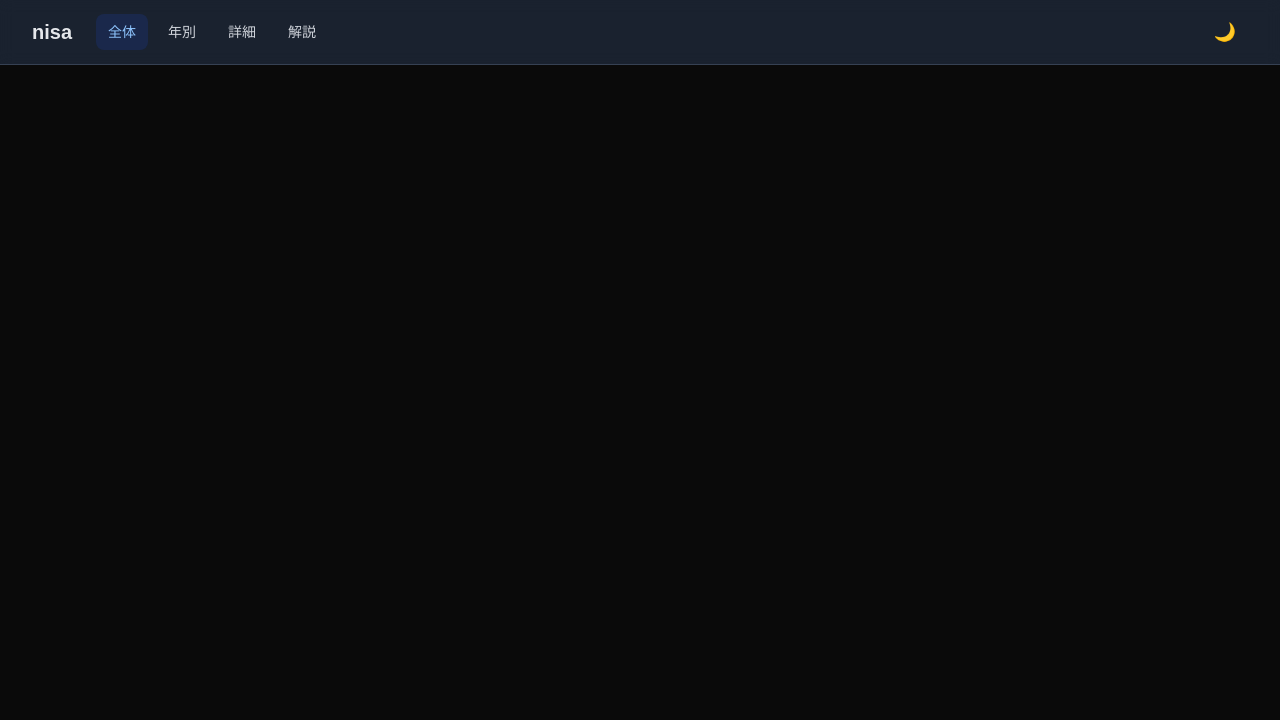
Header › テーマ切り替え機能 › ダークモードからライトモードに切り替わる
Expected: the text "🌙" is shown, [1214,18,1236,46]
Note: ボタンをクリック
Click the button titled "現在:" at {"x": 1225, "y": 32}, box [1202,10,1248,54]
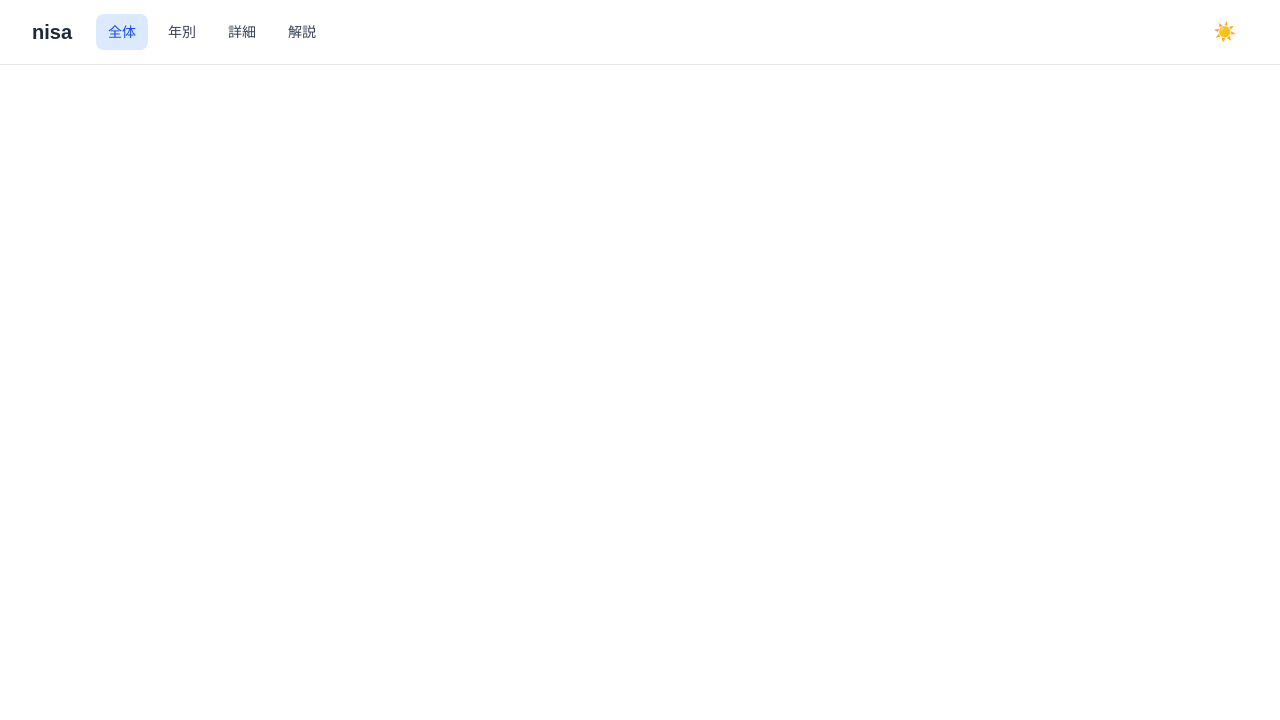
Now the text "☀️" is shown, box [1214,18,1236,46]
